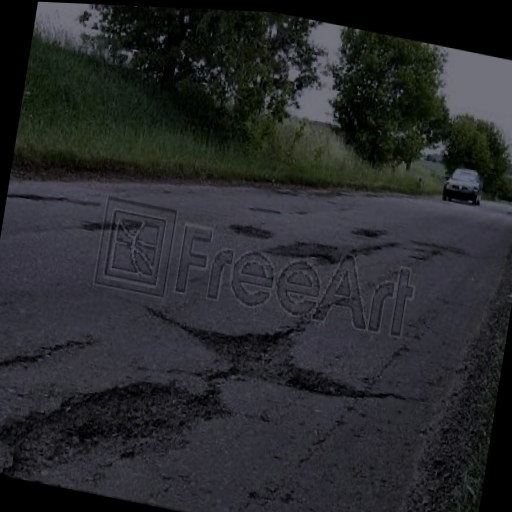pothole: (0, 342, 233, 512), (175, 308, 369, 401), (263, 230, 350, 272), (227, 217, 273, 239)
